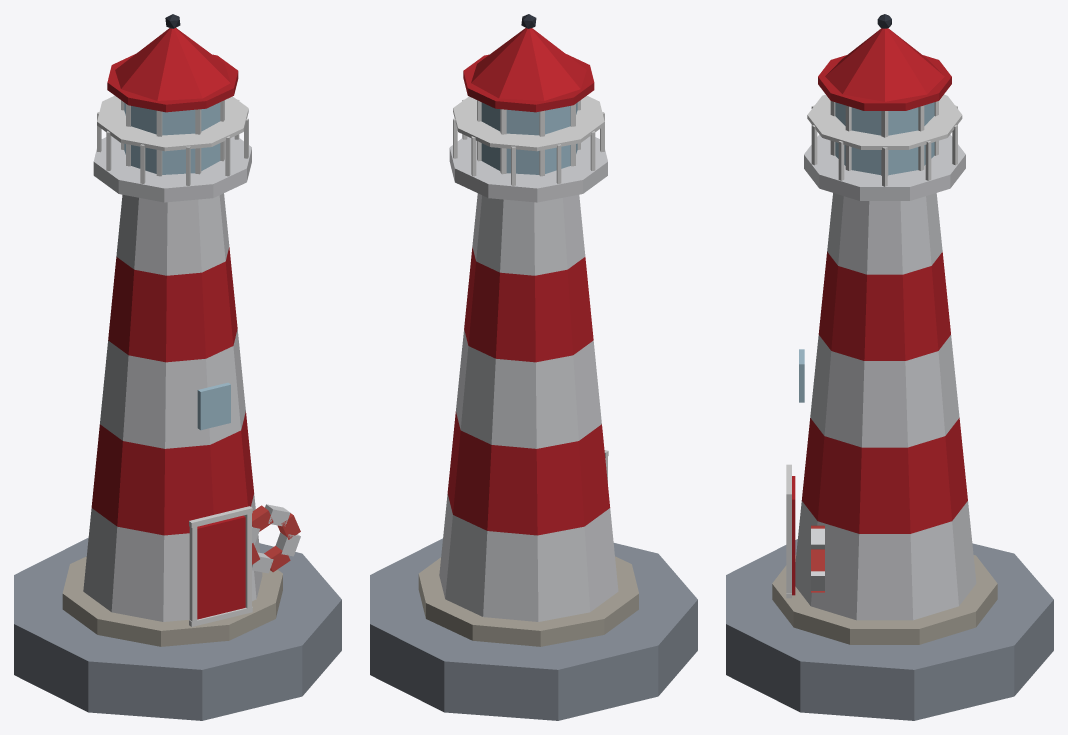
Rendered from lighthouse.glb.
3 views of the same model, side by side, from view 1: azimuth 30°, elevation 25°; view 2: azimuth 150°, elevation 25°; view 3: azimuth 270°, elevation 25° (orthographic).
Parts seen in each view (by area): view 1: lighthouse; view 2: lighthouse; view 3: lighthouse.
Part boxes in pixels (box(x1,y1,x2,y2)): lighthouse: box(14, 14, 341, 720); lighthouse: box(370, 14, 697, 720); lighthouse: box(726, 14, 1053, 720).
Bounding box in the file's own units: 4.73 × 9.97 × 4.66.
